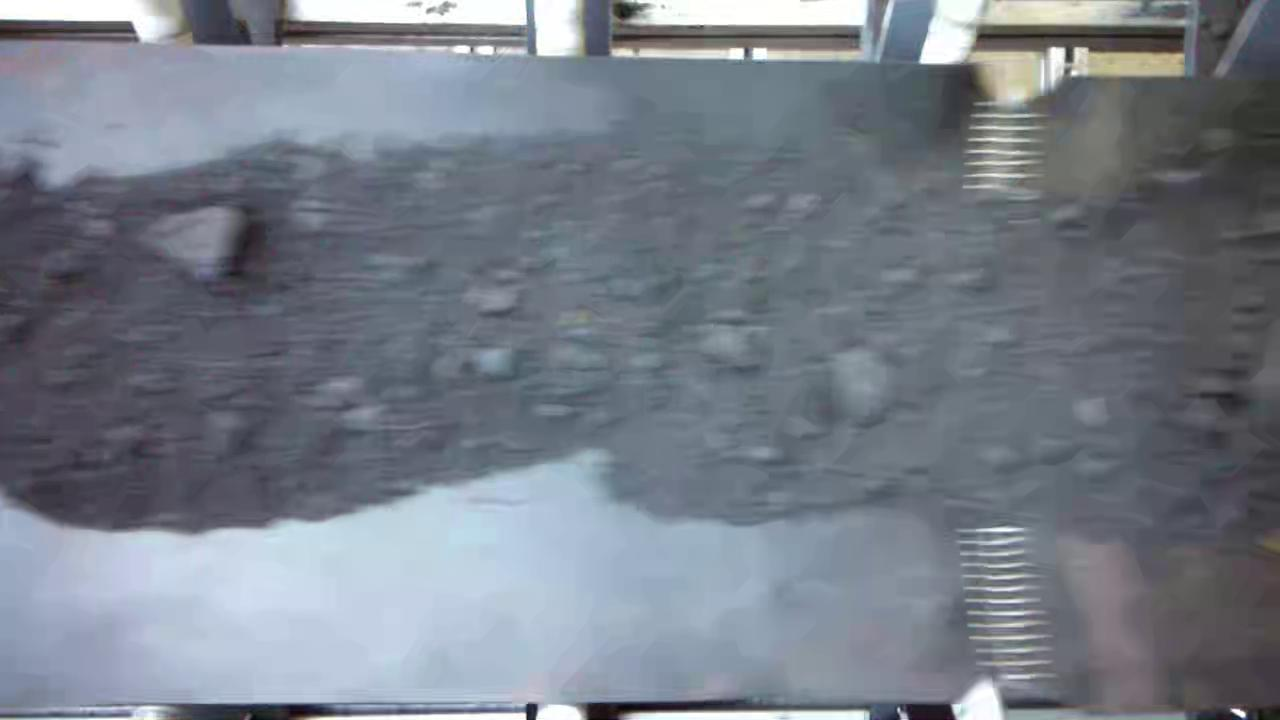conveyor: (3, 70, 1280, 702)
